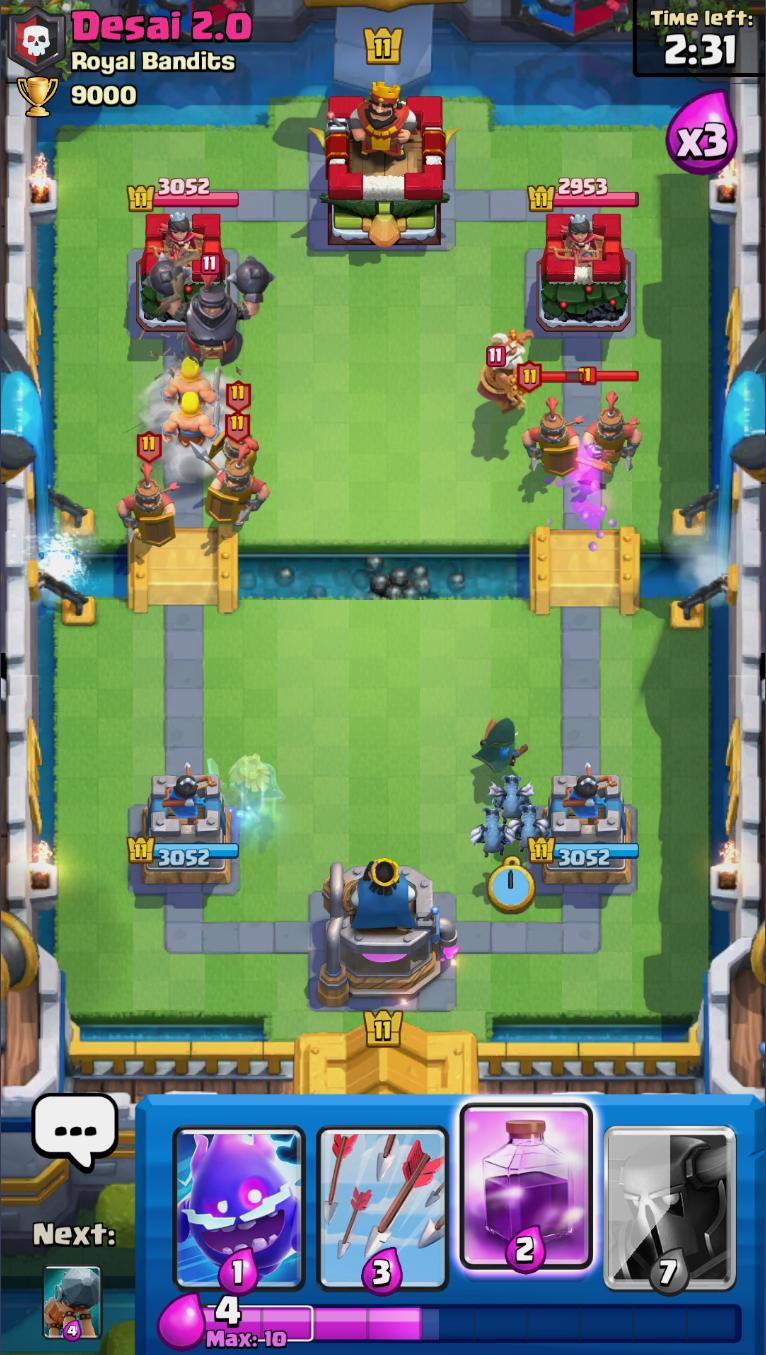ArrowDeck: (311, 1099, 454, 1296)
BattleRamNext: (41, 1263, 103, 1343)
ElectroSpiritDeck: (164, 1096, 313, 1294)
Elixir: (201, 1296, 741, 1351)
EnemyTower: (136, 211, 234, 331), (538, 209, 632, 333), (129, 178, 239, 212), (529, 178, 640, 211)
KingTower: (311, 79, 459, 246)
MegaKnight: (143, 252, 274, 368)
Monk: (474, 327, 534, 414)
MyBandit: (469, 716, 531, 774)
MyBarbarian: (157, 393, 222, 445), (160, 356, 225, 403)
MyKingTower: (317, 860, 460, 1007)
MyMinion: (469, 803, 517, 860), (489, 769, 537, 821), (504, 800, 549, 851)
MyPrincessTower: (129, 771, 240, 889), (531, 773, 639, 889)
MyPrincessTowerHP: (126, 836, 241, 867), (531, 835, 640, 866)
MyRoyaleGhost: (206, 750, 284, 824)
PekkaDeck: (599, 1094, 741, 1296)
PrincessTower: (550, 211, 605, 264), (149, 213, 204, 264)
RageDeck: (456, 1096, 597, 1294)
RoyalRecruit: (517, 359, 584, 477), (205, 411, 271, 528), (577, 364, 644, 478), (119, 429, 179, 547), (191, 378, 260, 473)
